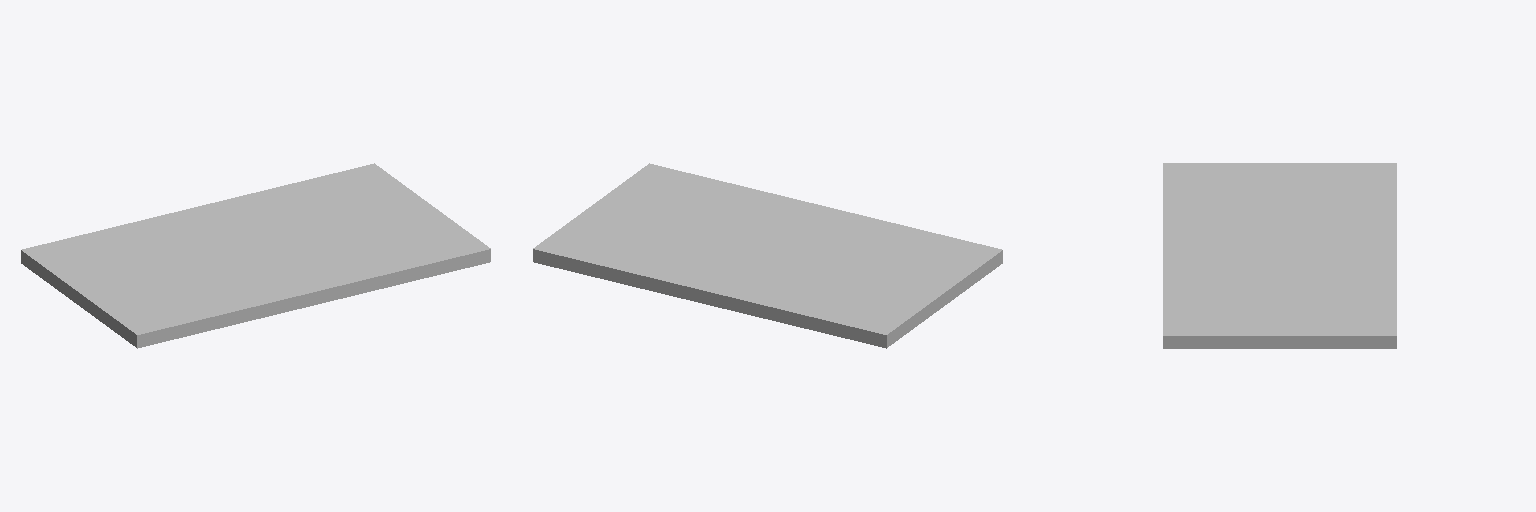
File: Floor2.obj
3 views of the same model, side by side, from view 1: azimuth 30°, elevation 25°; view 2: azimuth 150°, elevation 25°; view 3: azimuth 270°, elevation 25° (orthographic).
Parts seen in each view (by area): view 1: object 1; view 2: object 1; view 3: object 1.
Part boxes in pixels (x1,y1,x2,y2): object 1: (21,163,490,348); object 1: (533,163,1002,348); object 1: (1163,163,1396,348).
Size of the model in its own units: 5.6 by 0.2 by 3.2.